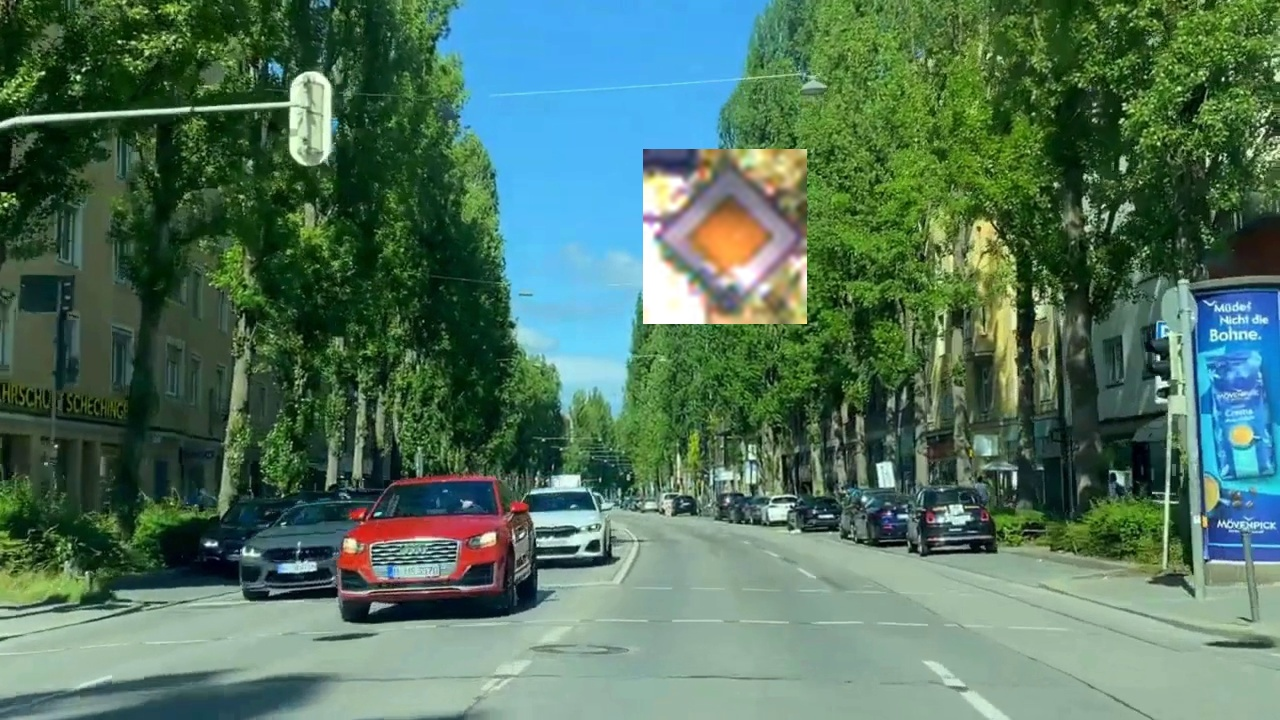Priority road: (643, 149, 807, 324)
